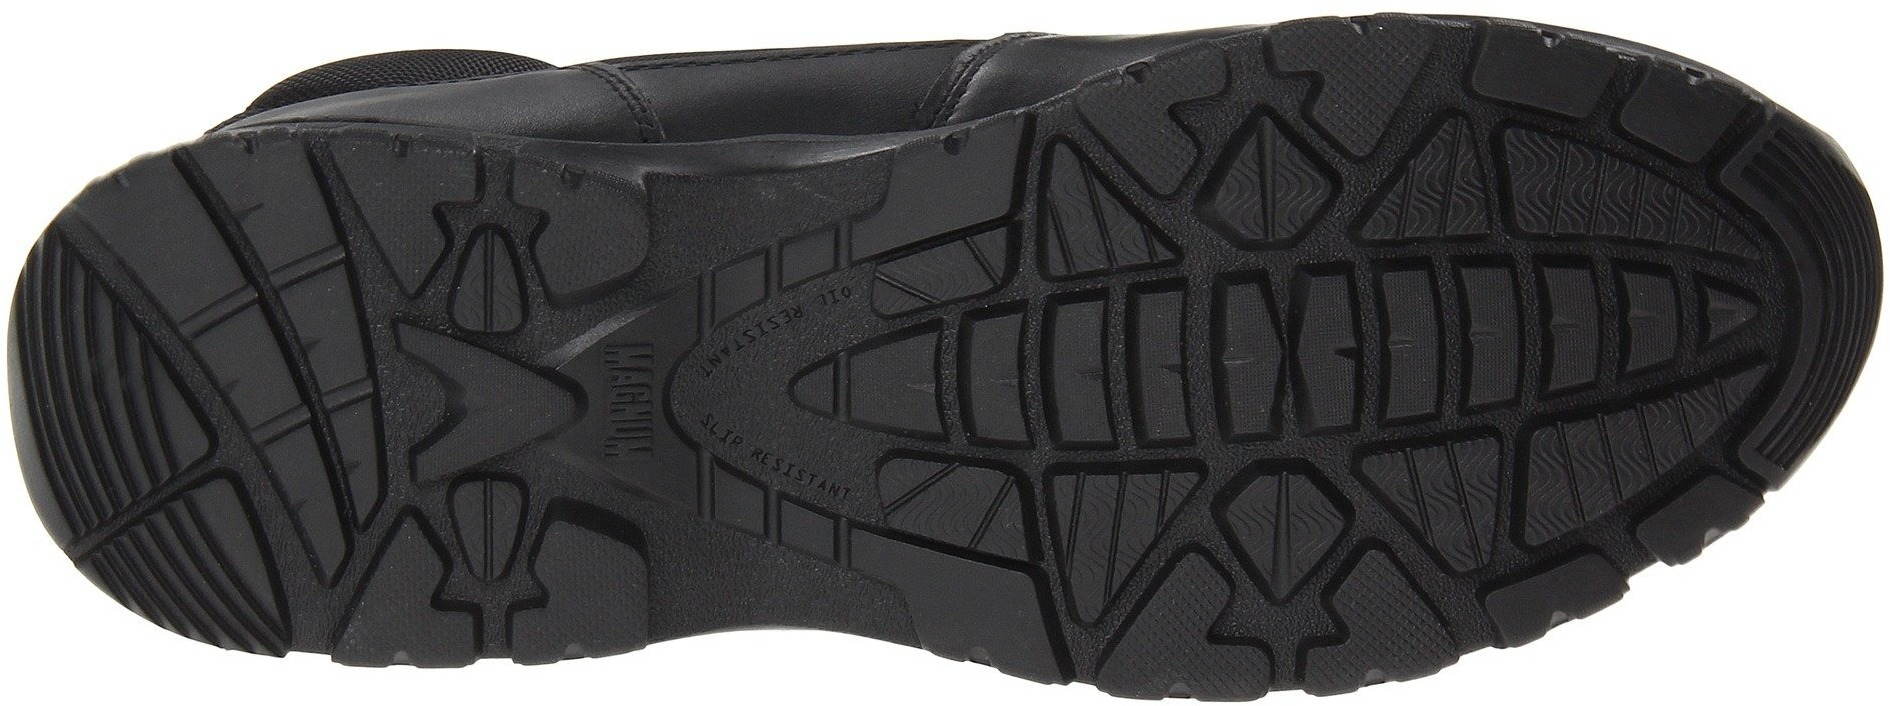quad: (137, 195, 397, 420), (1344, 225, 1568, 451), (952, 290, 1170, 486), (695, 226, 833, 325), (708, 471, 818, 578)
text: (582, 355, 683, 451)
